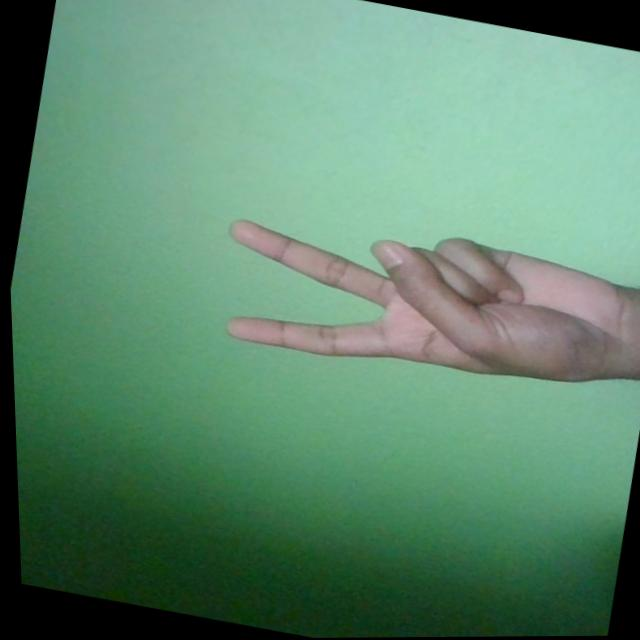Peace: (204, 192, 640, 413)
